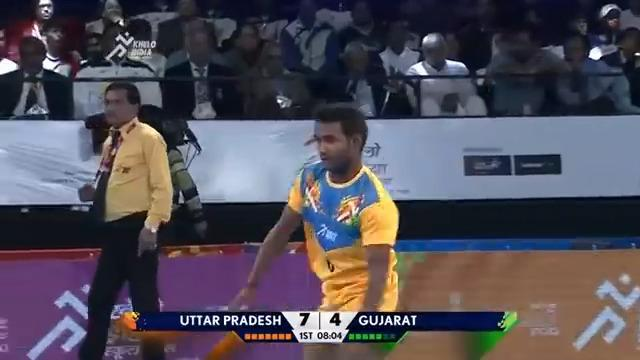Raider: (221, 104, 407, 358)
referee: (75, 80, 174, 358), (0, 35, 74, 119)
